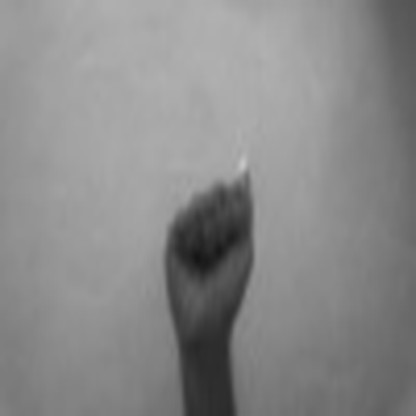a: (152, 146, 262, 338)
